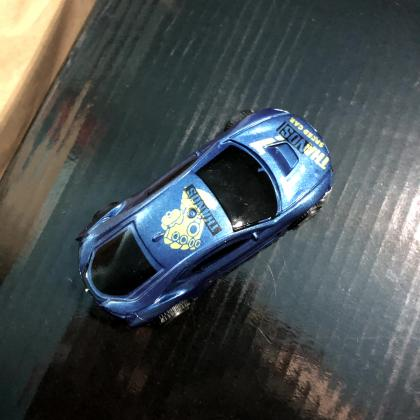Car: (78, 108, 334, 330)
